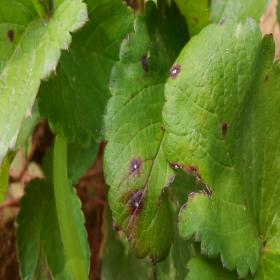Leaf Spot: (161, 16, 279, 279), (101, 0, 190, 266)
